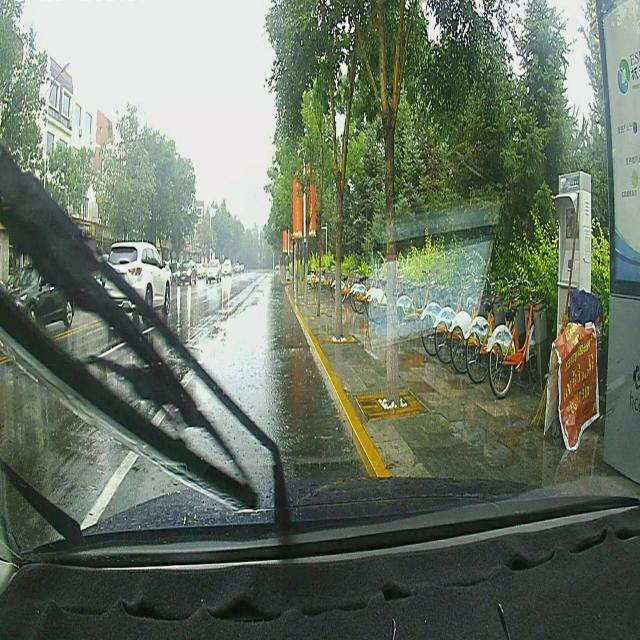car: (100, 241, 175, 320), (1, 259, 76, 335), (204, 259, 220, 284)
